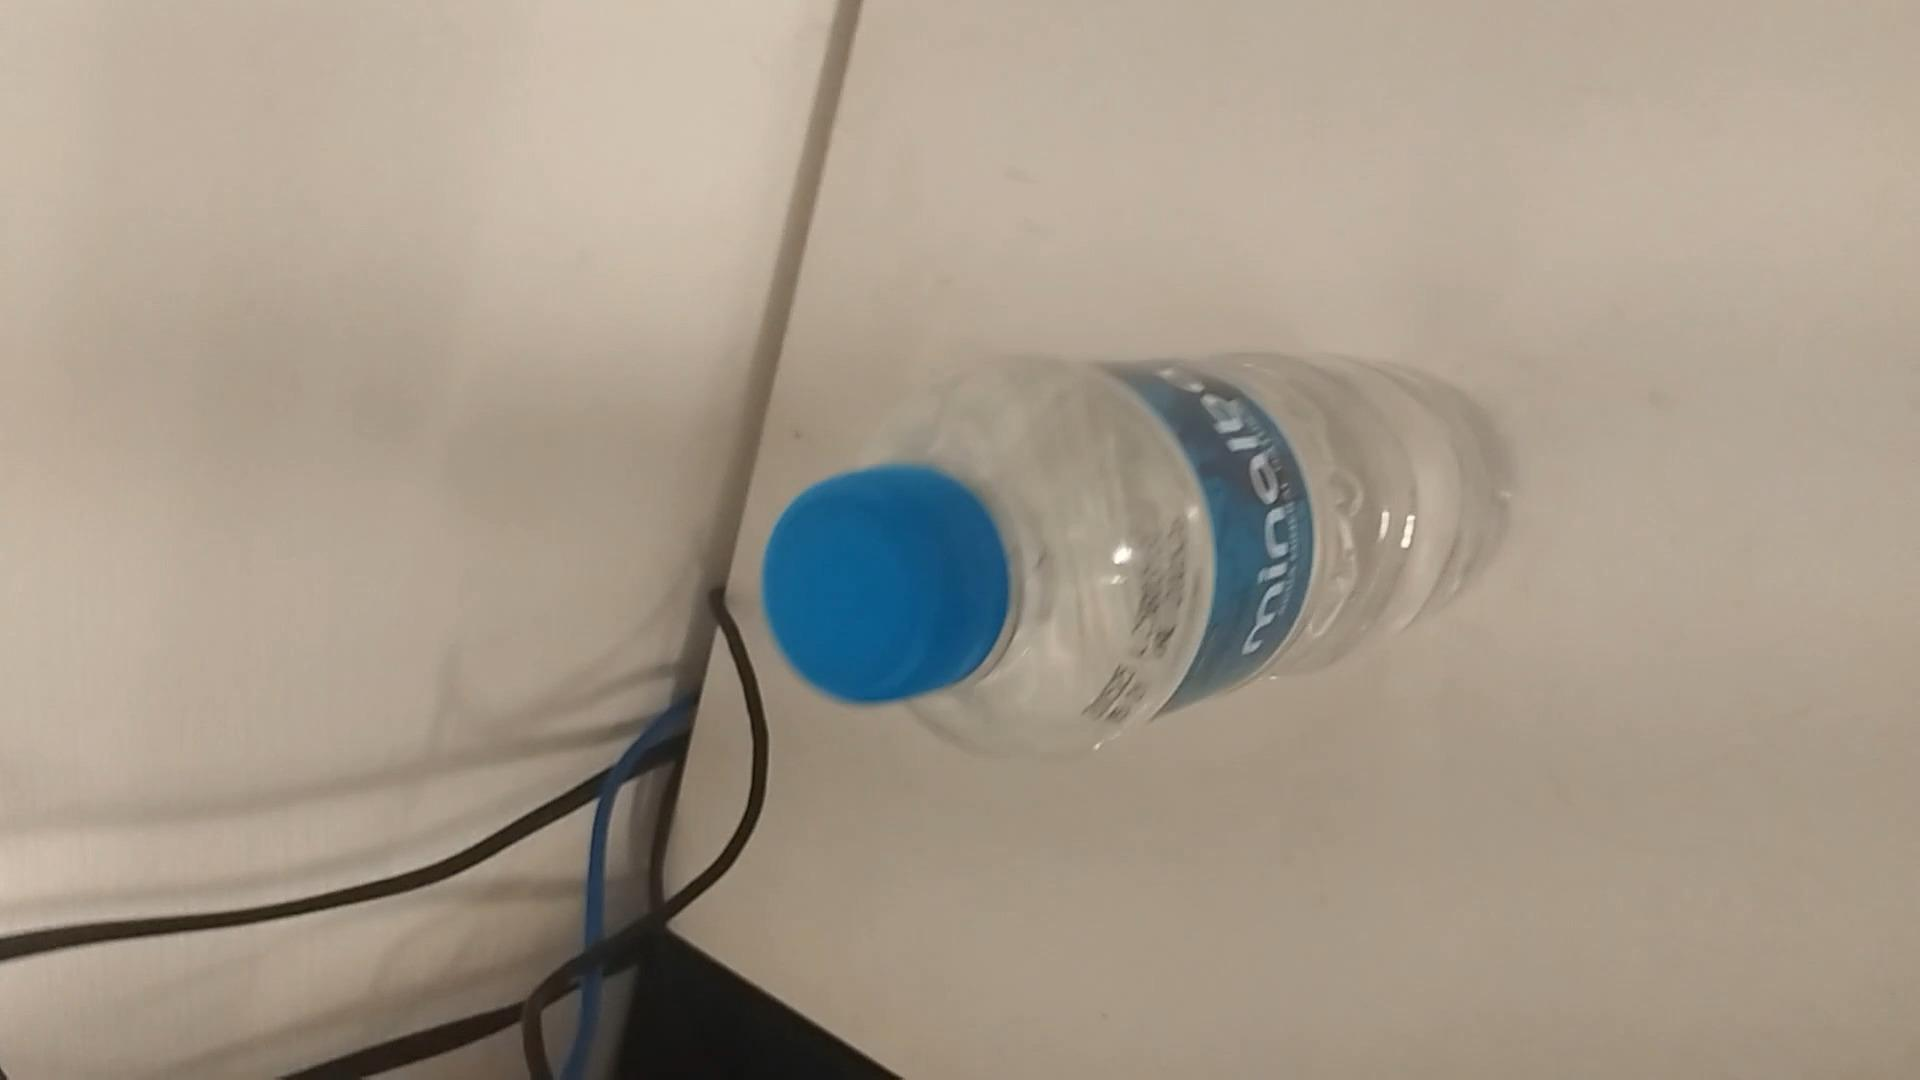agua: (767, 349, 1490, 753)
